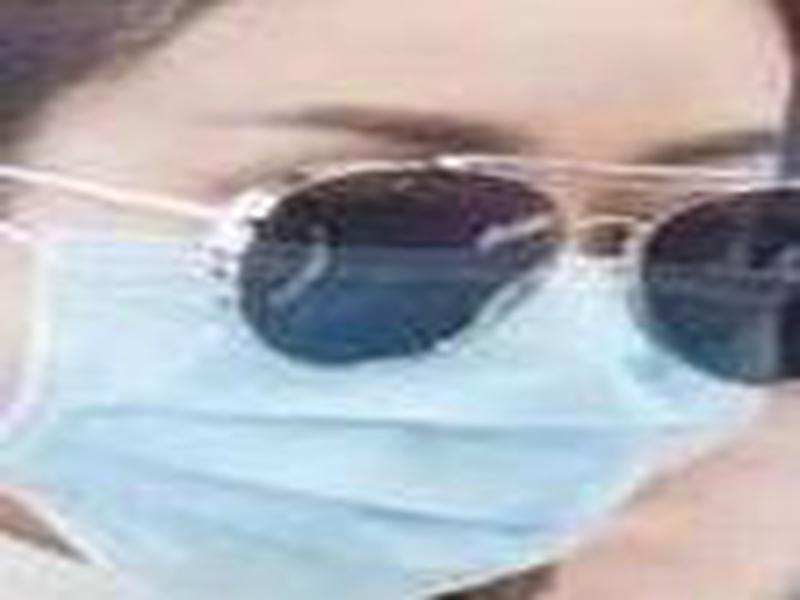with_mask: (1, 6, 797, 600)
